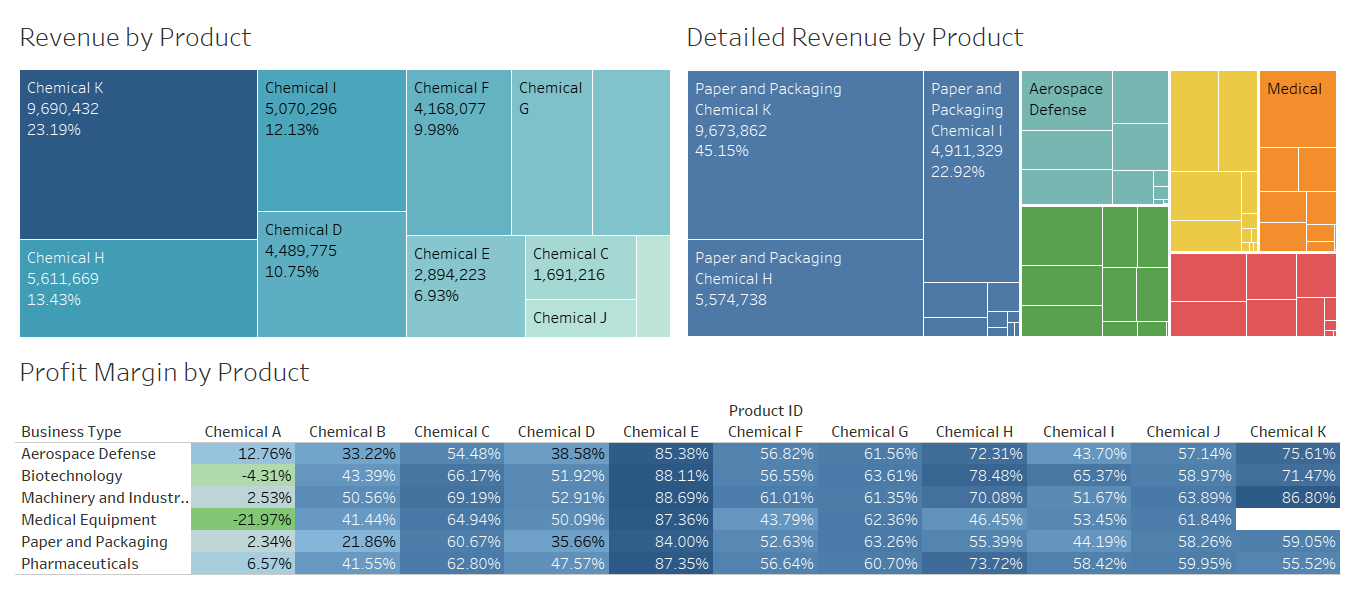

What the dashboard file says about the page in this screenshot:
{"tool":"tableau","page":{"name":"Product Analysis","canvas":[1000,1000],"units":"permille","ordinal":4},"visuals":[{"type":"worksheet","title":"Revenue by Product","mark":"Automatic","box":[6.3,14.1,493.7,548.5]},{"type":"worksheet","title":"Detailed Revenue by Product","mark":"Automatic","box":[500,14.1,493.7,548.5]},{"type":"worksheet","title":"Profit Margin by Product","mark":"Automatic","rows":["Business Type"],"cols":["Product ID"],"box":[6.3,562.6,987.4,423.3]}]}

Visuals, with their boxes on the dashboard's canvas, which has no fixed pixel size, in thousandths of its width and height (x1, y1, x2, y2). These are canvas units, not pixel positions in the 1356x608 screenshot, which may show the page scaled, cropped or inside an application window:
"Revenue by Product" worksheet: {"x1": 6, "y1": 14, "x2": 500, "y2": 563}
"Detailed Revenue by Product" worksheet: {"x1": 500, "y1": 14, "x2": 994, "y2": 563}
"Profit Margin by Product" worksheet: {"x1": 6, "y1": 563, "x2": 994, "y2": 986}
